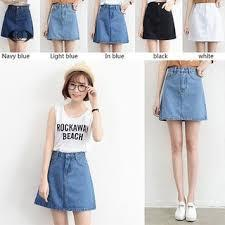skirt: (40, 151, 97, 215), (161, 67, 208, 125), (138, 3, 179, 43), (91, 6, 129, 47), (188, 3, 225, 45), (48, 4, 81, 43), (2, 4, 34, 43)
